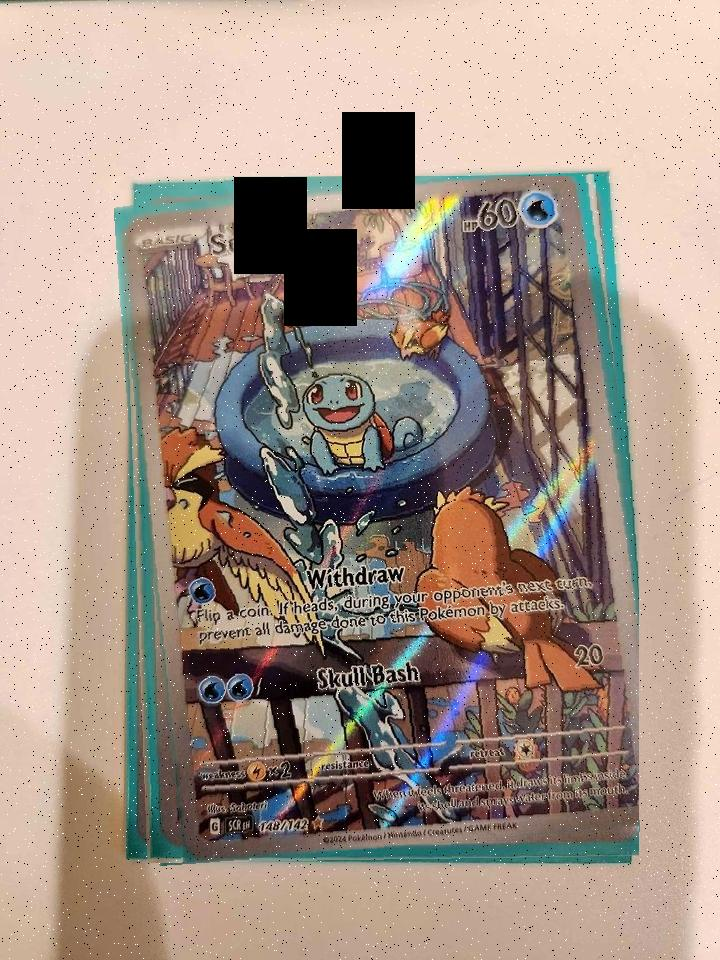card: (125, 176, 639, 863)
